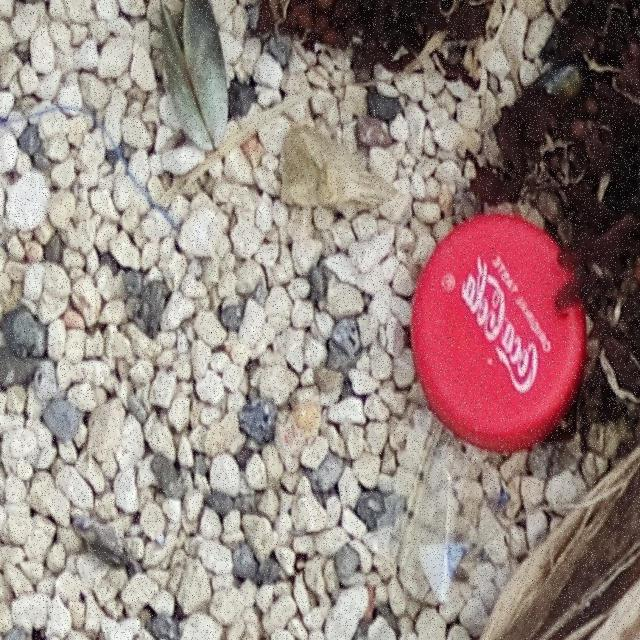plastic_waste: (408, 212, 591, 457)
